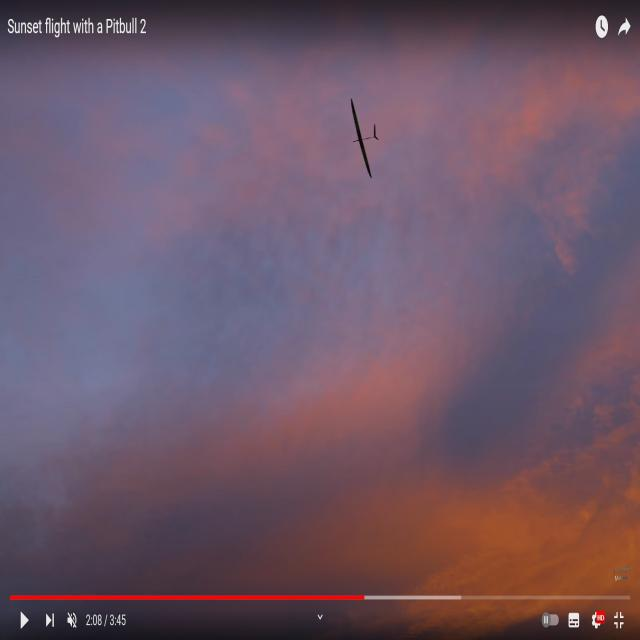iha: (351, 125, 377, 141)
